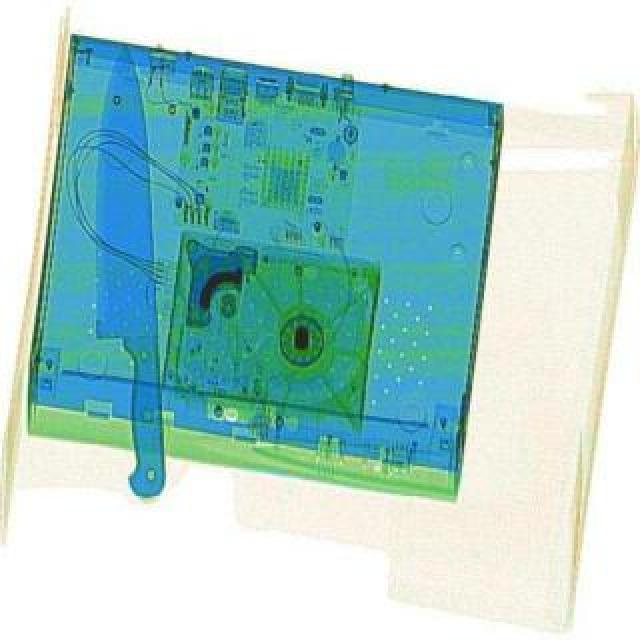knife: (90, 46, 162, 504)
